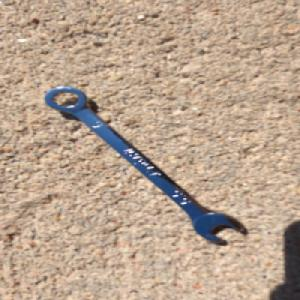Wrench: (42, 84, 248, 246)
